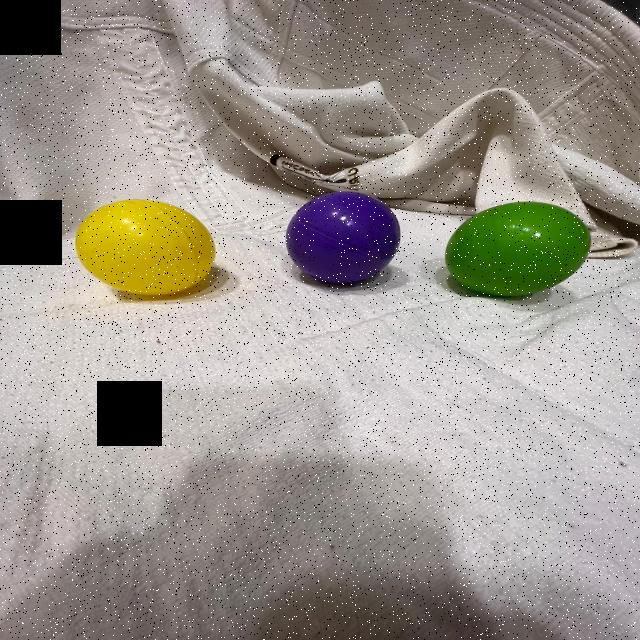ball: (440, 201, 596, 303), (72, 194, 221, 298), (284, 189, 404, 288)
